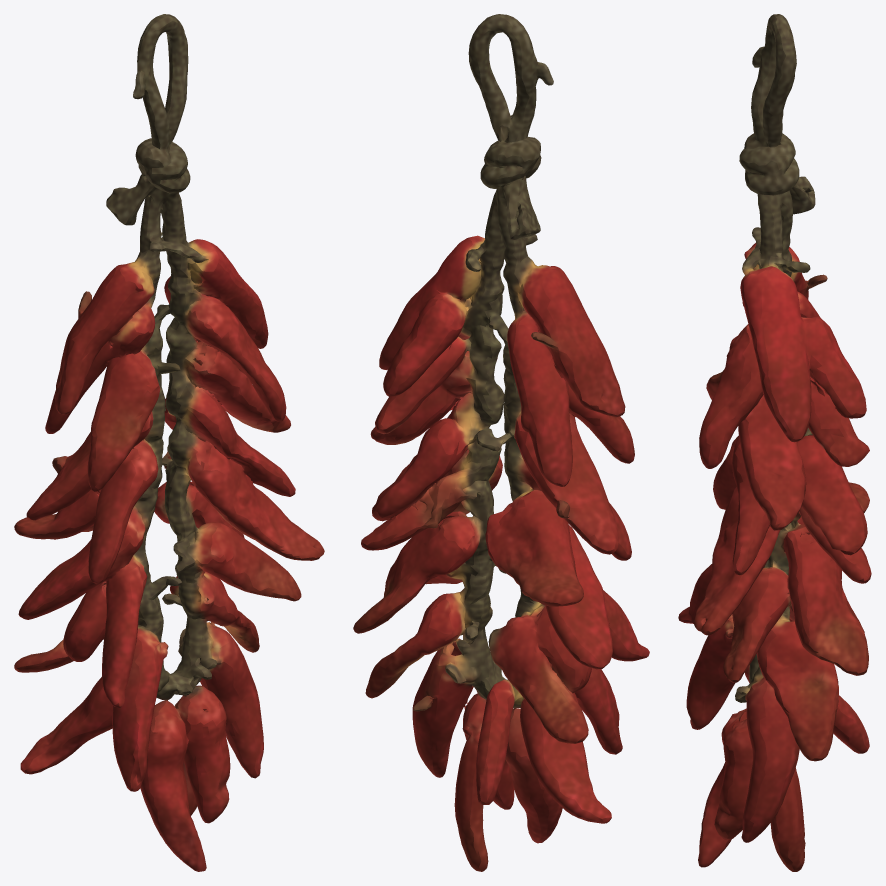
File: chili_string.glb
The picture shows the model from 3 angles, left to right: view 1: azimuth 30°, elevation 25°; view 2: azimuth 150°, elevation 25°; view 3: azimuth 270°, elevation 25°; orthographic projection. The views are drawn at different scales.
Parts seen in each view (by area): view 1: world; view 2: world; view 3: world.
Boxes of the visible parts, x1,y1,x2,y2 form: world: [14, 14, 324, 871]; world: [353, 14, 649, 871]; world: [678, 14, 871, 871].
Size of the model in its own units: 0.45 by 1.43 by 0.2947.
1 material, 1 textured.
